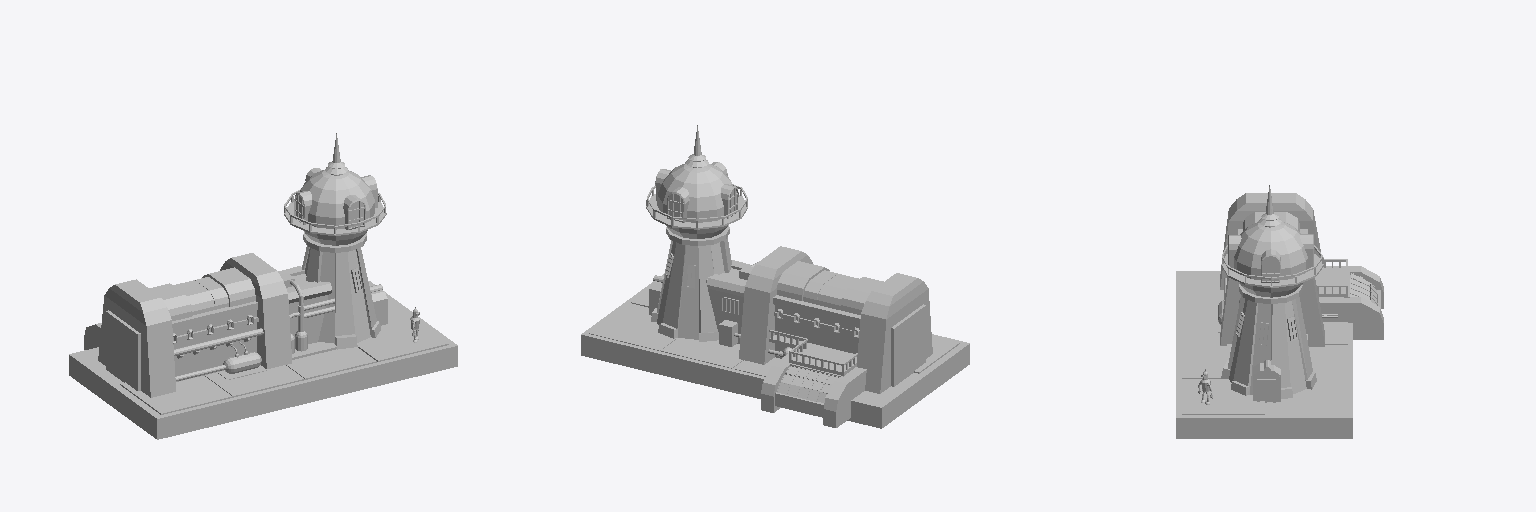
The model's file is futurama.obj.
3 renders of one model, left to right at view 1: azimuth 30°, elevation 25°; view 2: azimuth 150°, elevation 25°; view 3: azimuth 270°, elevation 25°, orthographic.
Visible parts, largest first — view 1: group[number redacted], group[number redacted], group[number redacted], group[number redacted], group[number redacted], group[number redacted], group[number redacted], group[number redacted], group[number redacted], group[number redacted], group[number redacted], group[number redacted] (+9 smaller); view 2: group[number redacted], group[number redacted], group[number redacted], group[number redacted], group[number redacted], group[number redacted], group[number redacted], group[number redacted], group[number redacted], group[number redacted], group[number redacted], group[number redacted] (+9 smaller); view 3: group[number redacted], group[number redacted], group[number redacted], group[number redacted], group[number redacted], group[number redacted], group[number redacted], group[number redacted], group[number redacted], group[number redacted], group[number redacted], group[number redacted] (+4 smaller).
Boxes of the visible parts, <box> form: group[number redacted]: <box>69,281,457,439</box>; group[number redacted]: <box>98,279,175,397</box>; group[number redacted]: <box>302,246,380,349</box>; group[number redacted]: <box>106,310,256,390</box>; group[number redacted]: <box>220,253,291,368</box>; group[number redacted]: <box>300,170,374,245</box>; group[number redacted]: <box>357,314,448,361</box>; group[number redacted]: <box>120,376,232,414</box>; group[number redacted]: <box>286,347,376,379</box>; group[number redacted]: <box>205,365,304,397</box>; group[number redacted]: <box>202,267,255,306</box>; group[number redacted]: <box>289,274,327,343</box>; group[number redacted]: <box>581,273,969,428</box>; group[number redacted]: <box>651,237,731,341</box>; group[number redacted]: <box>857,273,932,393</box>; group[number redacted]: <box>775,304,925,386</box>; group[number redacted]: <box>739,246,812,364</box>; group[number redacted]: <box>657,163,732,238</box>; group[number redacted]: <box>589,303,676,350</box>; group[number redacted]: <box>823,367,866,427</box>; group[number redacted]: <box>661,338,742,368</box>; group[number redacted]: <box>777,261,829,300</box>; group[number redacted]: <box>773,295,860,324</box>; group[number redacted]: <box>761,349,799,412</box>; group[number redacted]: <box>1221,295,1316,398</box>; group[number redacted]: <box>1176,271,1352,438</box>; group[number redacted]: <box>1234,222,1308,297</box>; group[number redacted]: <box>1220,193,1320,289</box>; group[number redacted]: <box>1182,379,1264,414</box>; group[number redacted]: <box>1220,277,1324,346</box>; group[number redacted]: <box>1266,380,1347,414</box>; group[number redacted]: <box>1319,297,1383,339</box>; group[number redacted]: <box>1182,343,1226,378</box>; group[number redacted]: <box>1182,273,1223,307</box>; group[number redacted]: <box>1182,308,1219,342</box>; group[number redacted]: <box>1309,345,1347,379</box>.
Bounding box in the file's own units: 4.14 × 2.87 × 2.46.